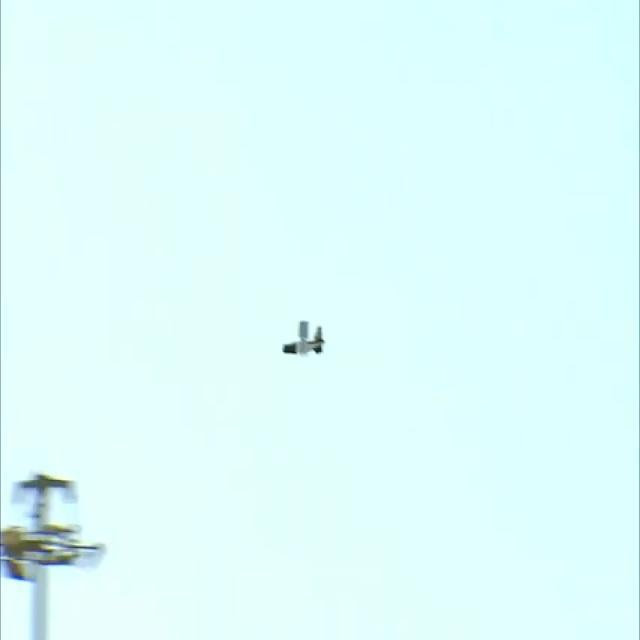iha: (281, 320, 326, 358)
